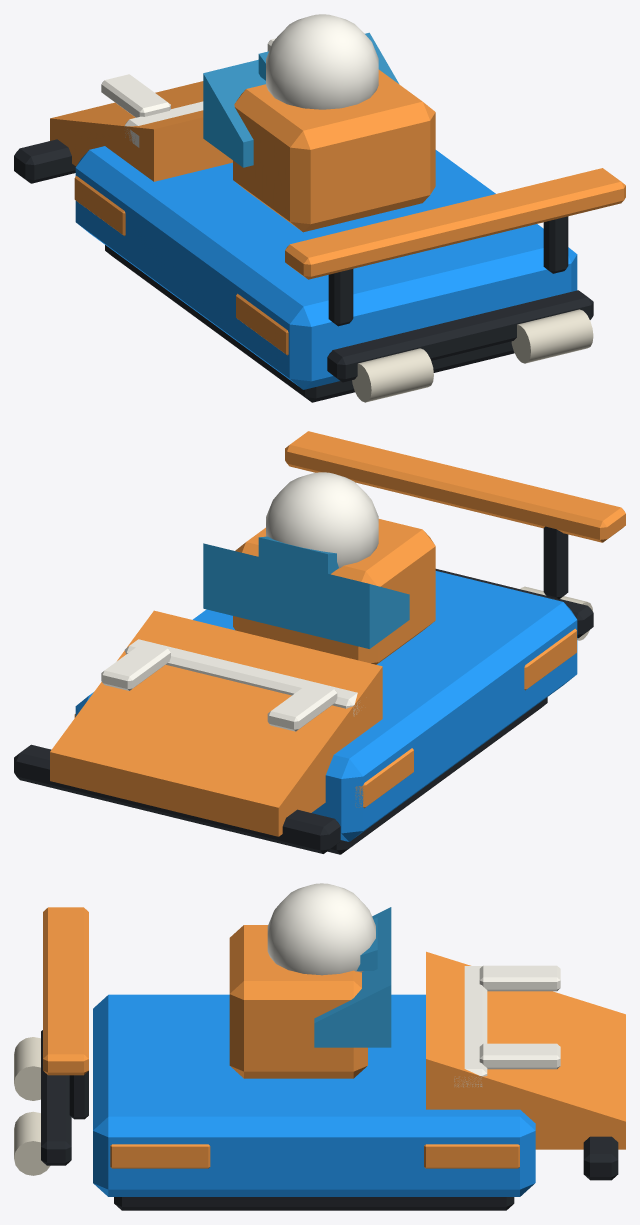
File: kart_body.glb
3 views of the same model, one above another, from view 1: azimuth 30°, elevation 25°; view 2: azimuth 150°, elevation 25°; view 3: azimuth 270°, elevation 25° (orthographic). The views are drawn at different scales.
Size of the model in its own units: 1.86 by 1.54 by 3.18.
